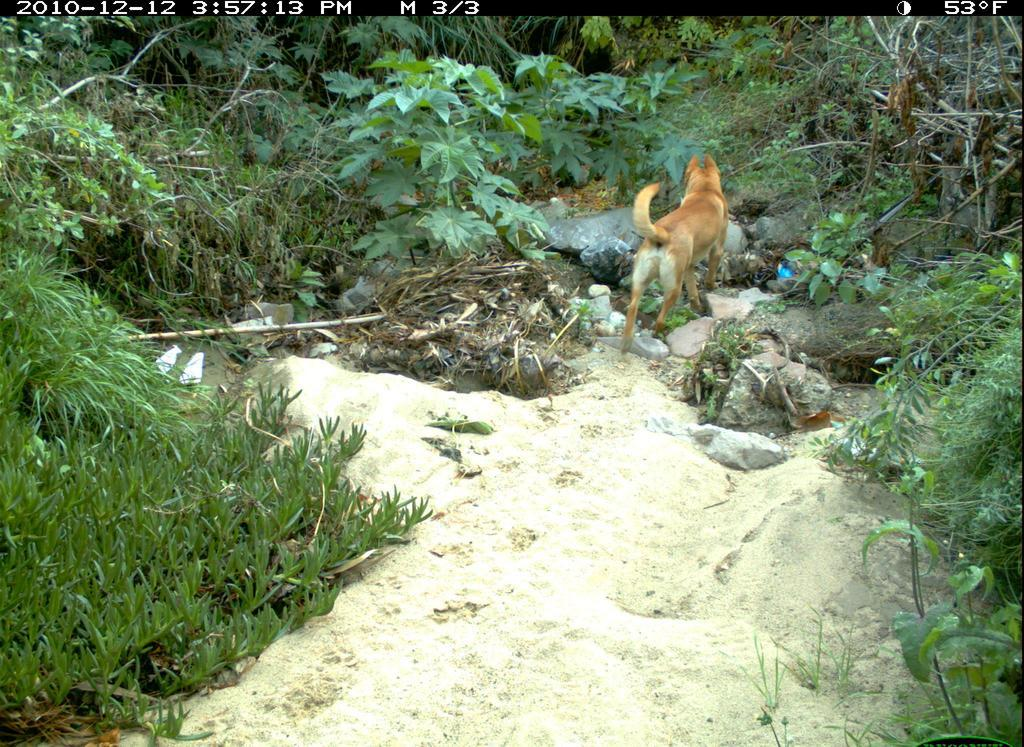dog: (617, 146, 737, 368)
